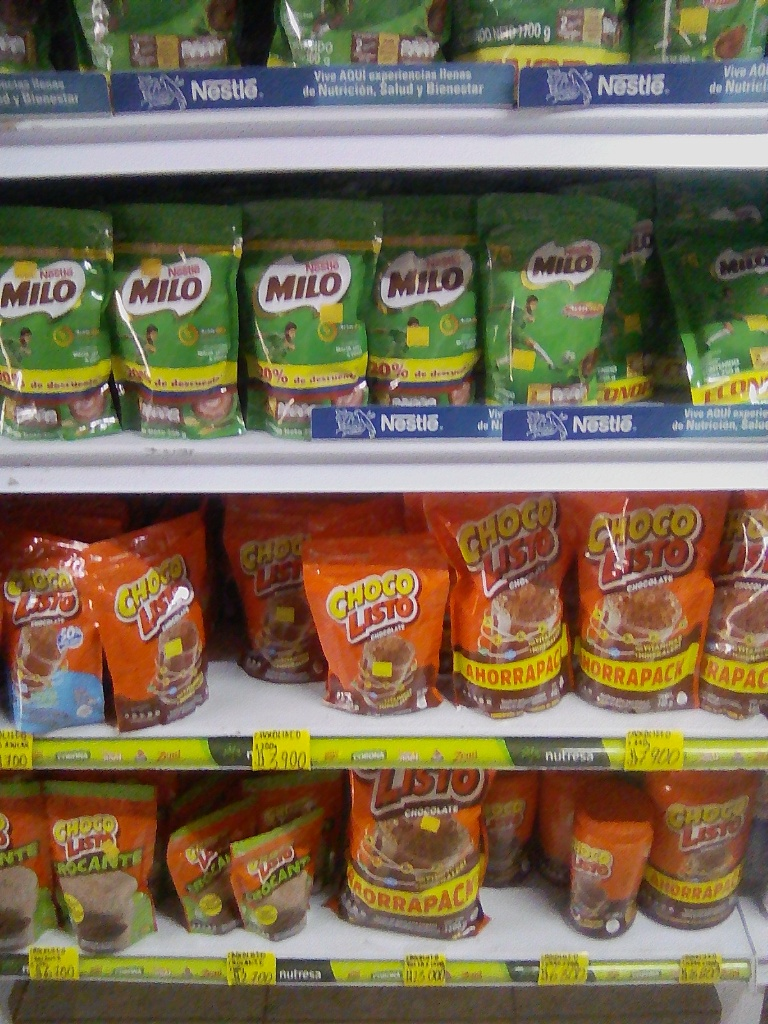COL0170102DYP10000: (241, 819, 331, 945)
COL0170102DYP25000: (49, 768, 163, 957)
COL0170103DYP1,500: (338, 769, 501, 946)
COL0170103DYP20000: (75, 515, 205, 730)
COL0170103DYP36000: (407, 495, 569, 717)
COL0170103TRR00100: (651, 770, 761, 935)
COL0170103TRR30000: (551, 777, 651, 941)
COL0170104DYP20000: (2, 510, 107, 733)
COL0170203DYP25000: (1, 195, 126, 446)
